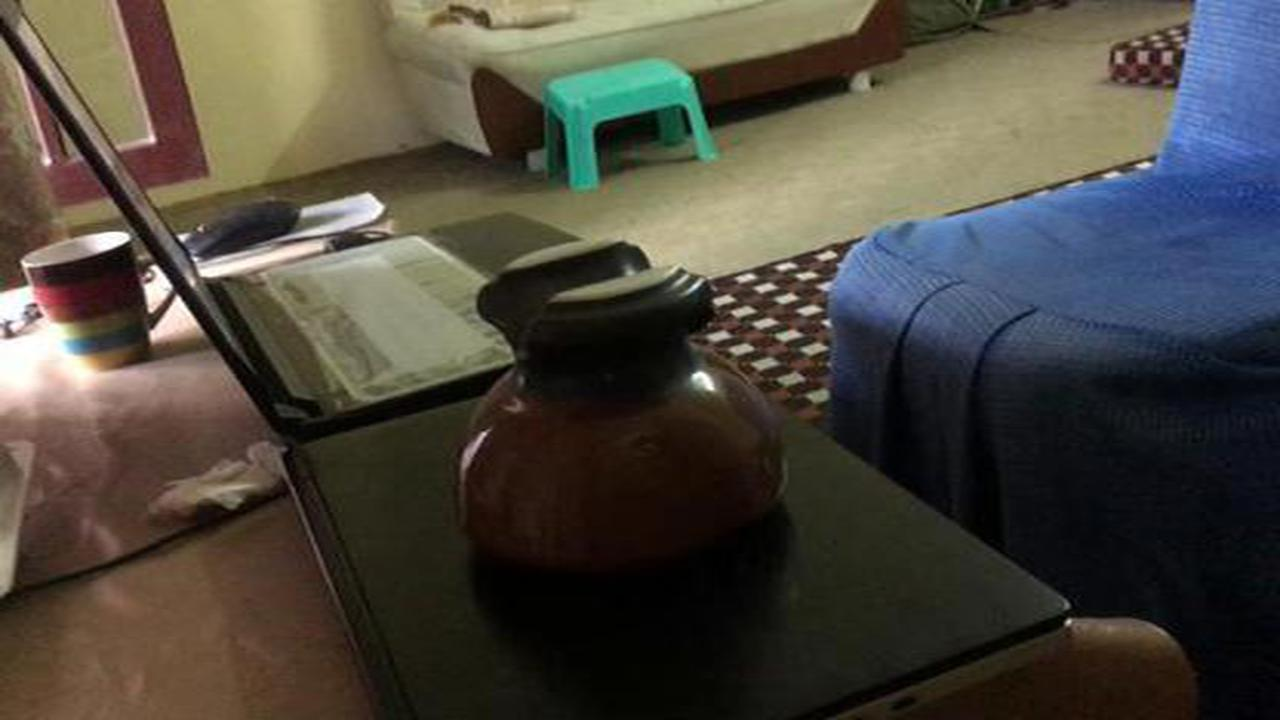insulator_pin: (444, 223, 810, 594)
